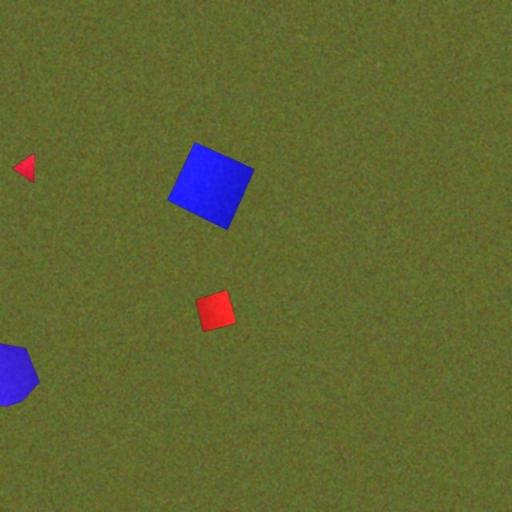BLUE_SQUARE: (166, 142, 256, 231)
RED_SQUARE: (194, 289, 238, 333)
